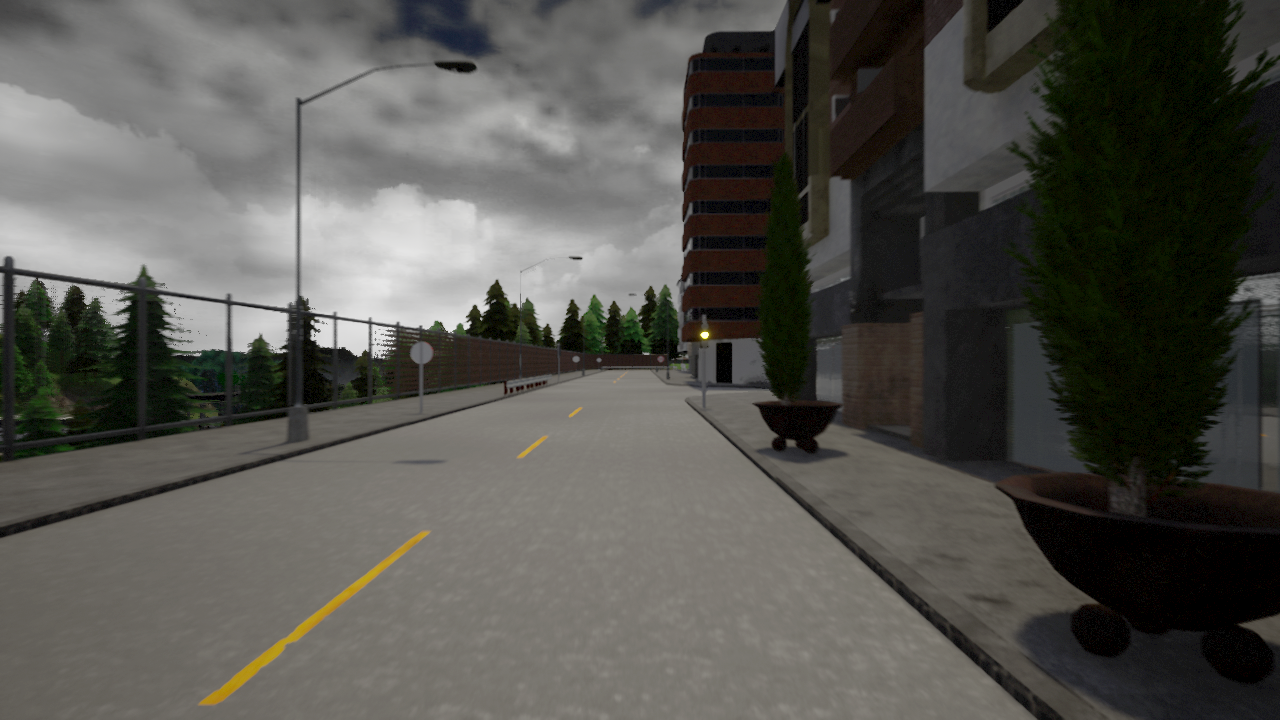yellow: (699, 321, 710, 350)
